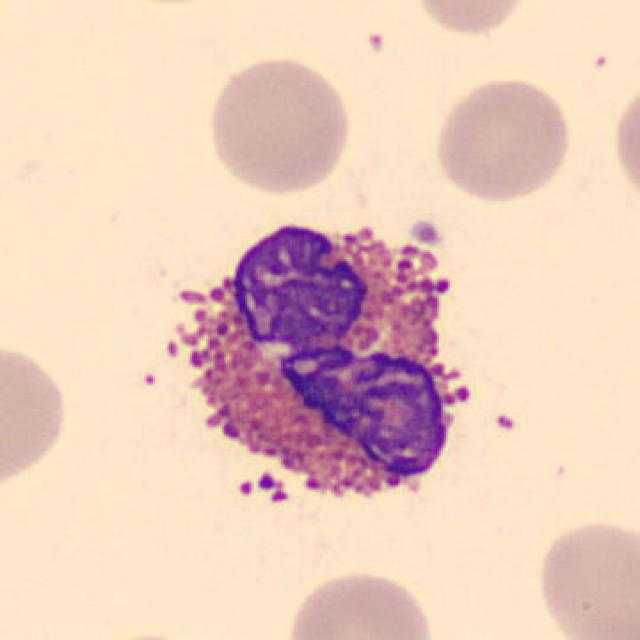Eosinophil: (146, 198, 489, 534)
RBC: (201, 53, 355, 197), (430, 72, 576, 204), (532, 515, 638, 640), (279, 564, 441, 640), (0, 333, 73, 497), (407, 0, 533, 39), (608, 76, 640, 213)
